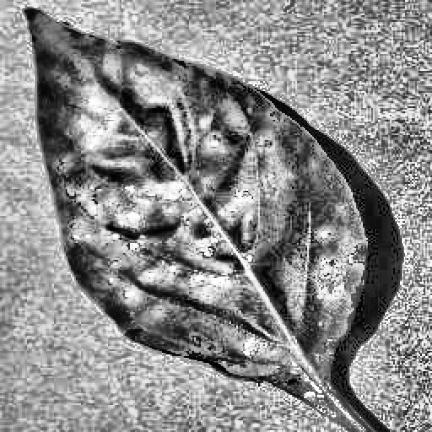leaf: (27, 8, 378, 430)
